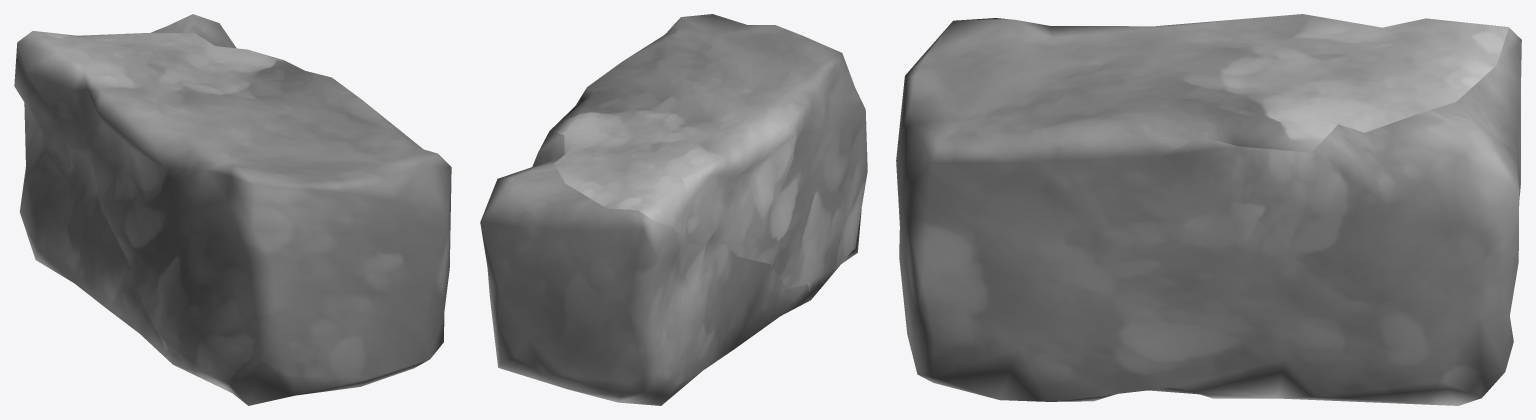
The model's file is SM_StoneBrick_02a.fbx.
3 renders of one model, left to right at view 1: azimuth 30°, elevation 25°; view 2: azimuth 150°, elevation 25°; view 3: azimuth 270°, elevation 25°, orthographic. The views are drawn at different scales.
Visible parts, largest first — view 1: SM_StoneBrick_02a_LOD0; view 2: SM_StoneBrick_02a_LOD0; view 3: SM_StoneBrick_02a_LOD0.
Boxes of the visible parts, x1=… form: SM_StoneBrick_02a_LOD0: x1=14, y1=14, x2=451, y2=405; SM_StoneBrick_02a_LOD0: x1=480, y1=14, x2=867, y2=405; SM_StoneBrick_02a_LOD0: x1=896, y1=14, x2=1521, y2=405.
Size of the model in its own units: 49.86 by 98.47 by 50.27.
